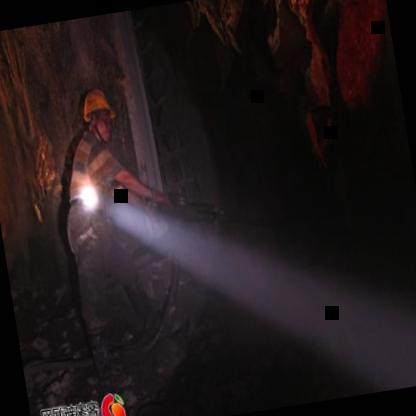helmet: (76, 82, 121, 146)
